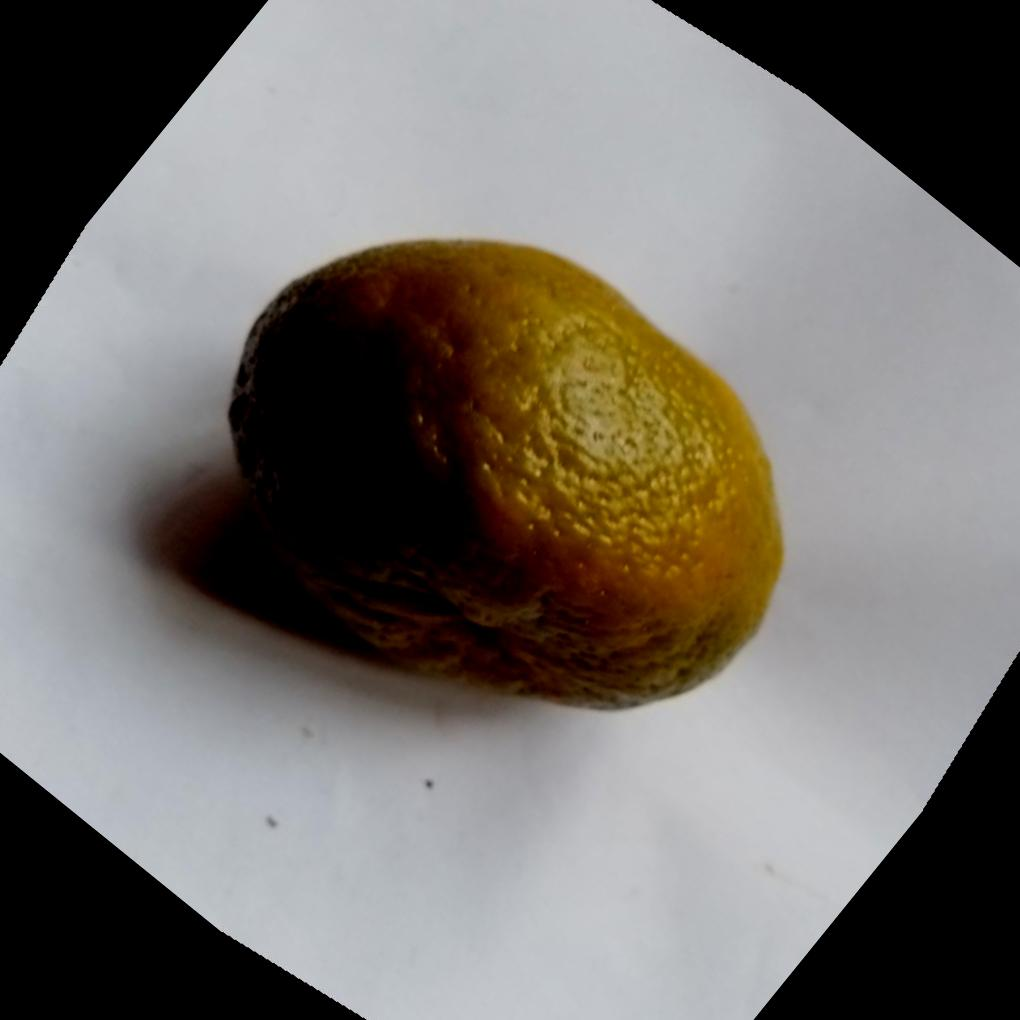FreshGuava: (227, 232, 787, 711)
